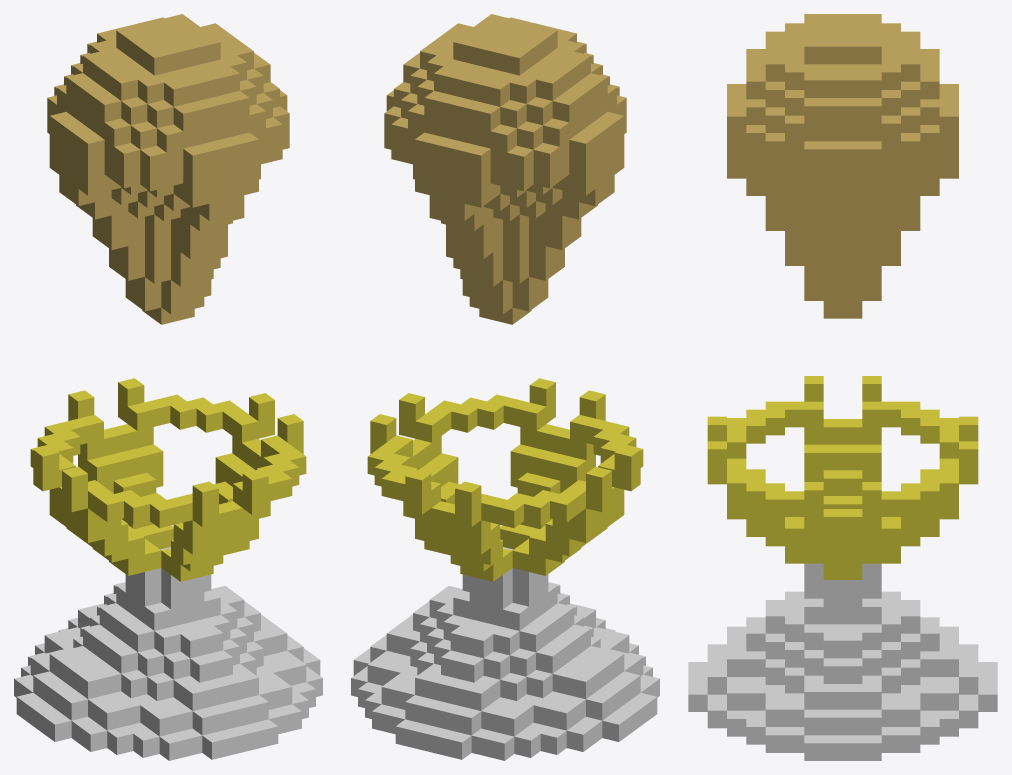
The model's file is monument.obj.
3 renders of one model, left to right at view 1: azimuth 30°, elevation 25°; view 2: azimuth 150°, elevation 25°; view 3: azimuth 270°, elevation 25°, orthographic.
Parts seen in each view (by area): view 1: monument; view 2: monument; view 3: monument.
Boxes of the visible parts, <box> form: monument: <box>14,14,322,760</box>; monument: <box>351,14,659,760</box>; monument: <box>688,14,997,760</box>.
Bounding box in the file's own units: 16 × 38 × 16.
1 material, 1 textured.
